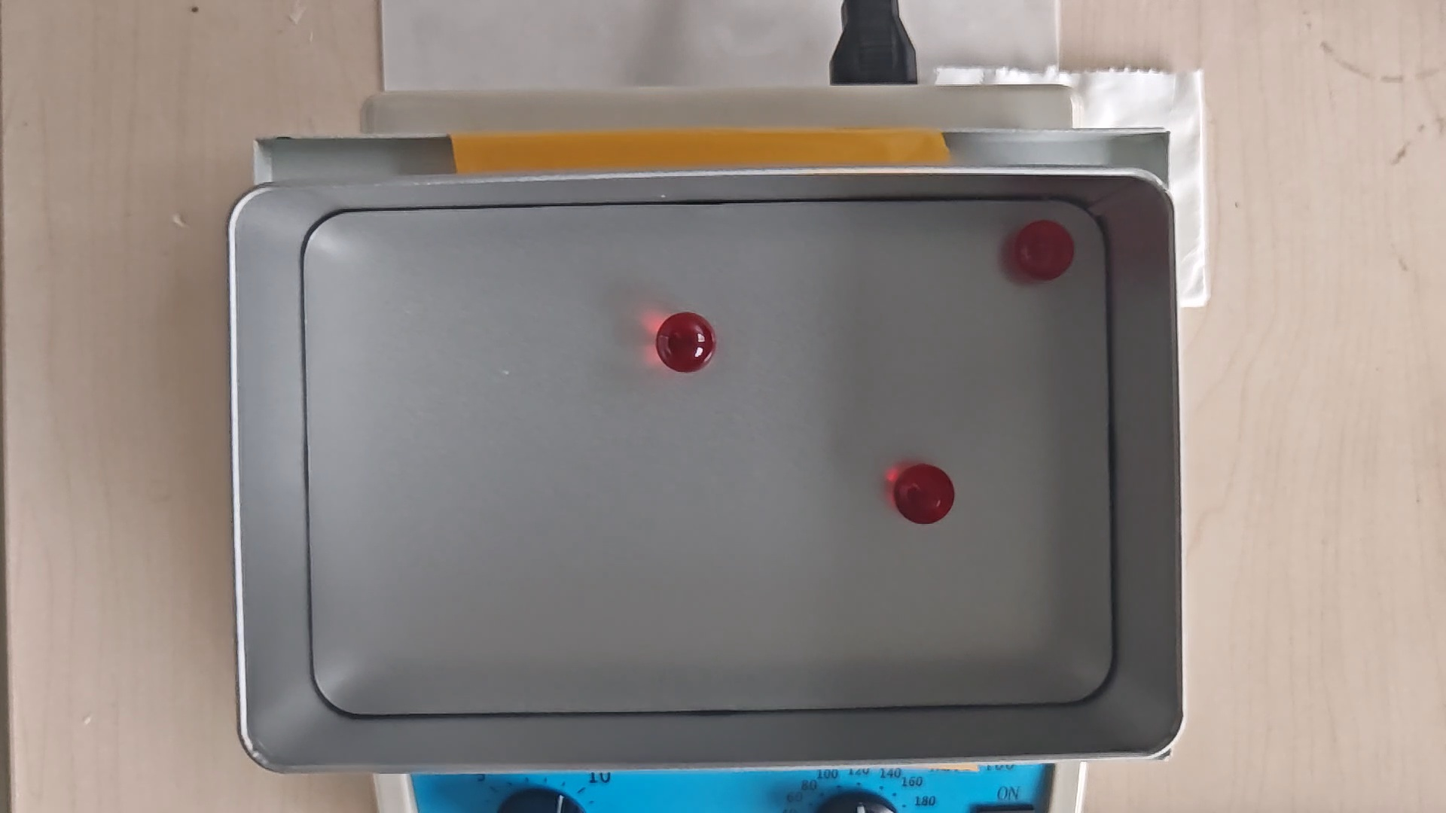ball: (896, 464, 957, 526), (657, 311, 717, 372), (1013, 220, 1072, 279)
container: (300, 199, 1115, 714)
